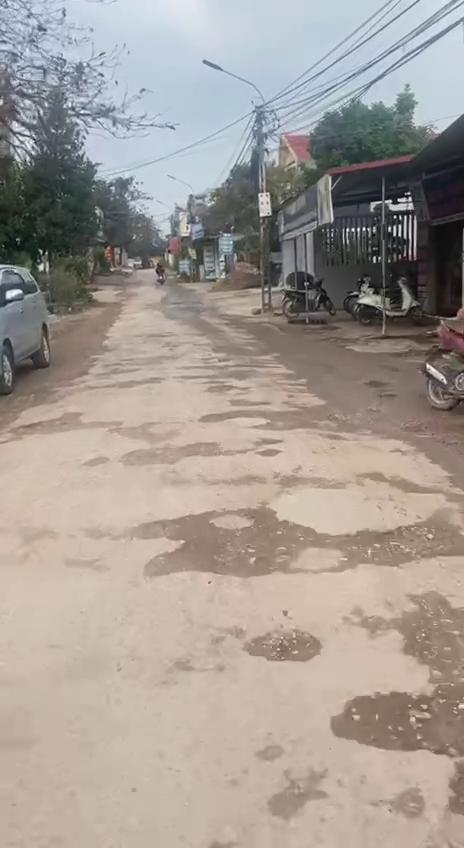pothole: (334, 587, 464, 762), (128, 506, 342, 584), (343, 508, 464, 572), (189, 396, 370, 436), (240, 621, 326, 665), (396, 415, 464, 458), (119, 441, 231, 465), (5, 413, 112, 429), (362, 373, 396, 401), (109, 376, 168, 392), (199, 380, 247, 395)
